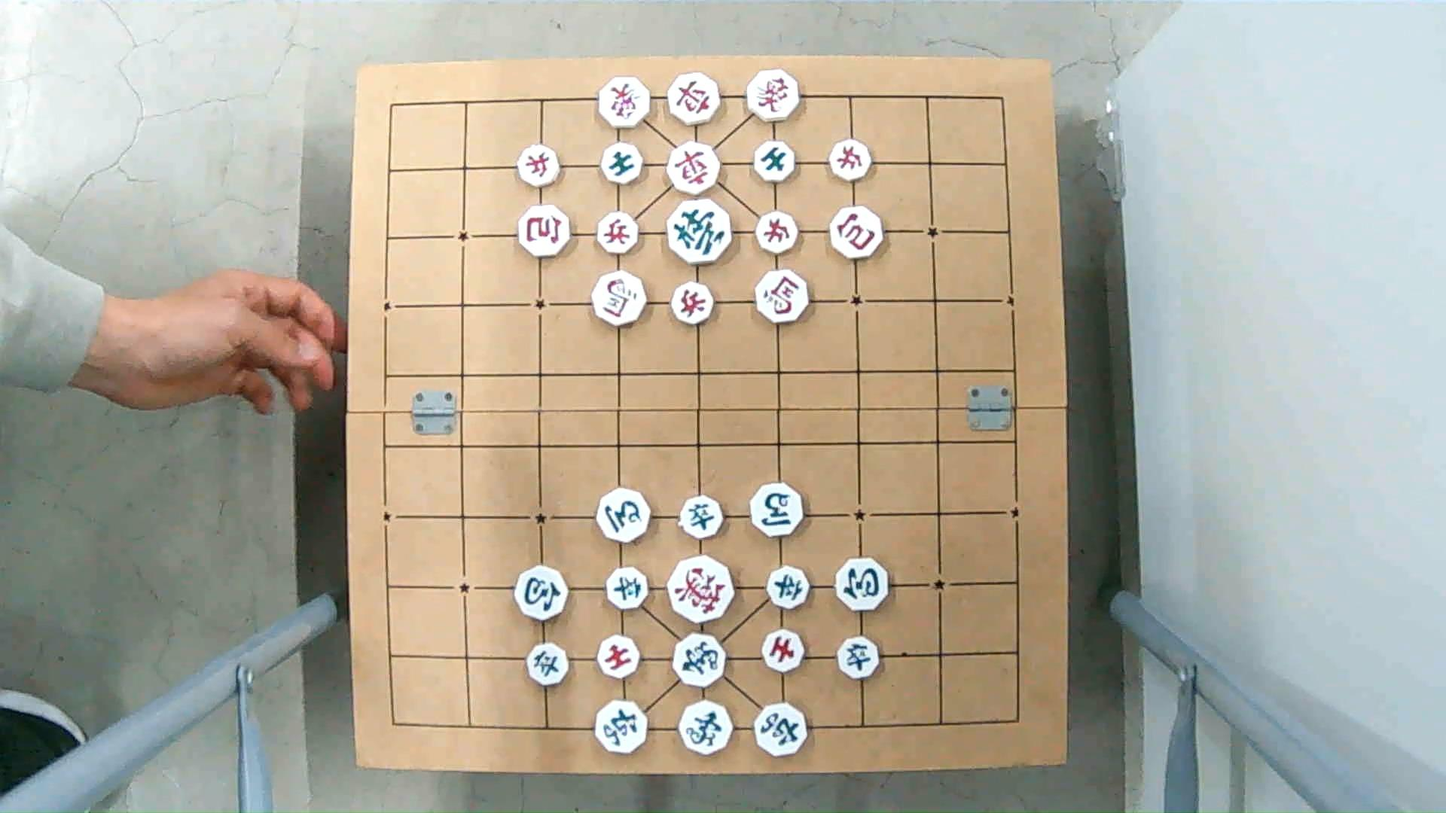cha_green: (754, 704, 808, 758), (593, 703, 651, 752)
cha_red: (667, 75, 724, 123), (666, 146, 723, 194)
jol_green: (764, 565, 809, 610), (676, 498, 725, 537), (605, 568, 652, 608), (523, 644, 572, 682), (836, 641, 883, 679)
jol_red: (751, 213, 800, 252), (516, 148, 564, 187), (668, 282, 717, 320), (595, 215, 643, 253), (825, 142, 873, 180)
ma_green: (746, 483, 805, 536), (594, 490, 653, 540)
ma_red: (756, 271, 816, 321), (590, 273, 649, 323)
po_green: (513, 565, 570, 619), (833, 562, 892, 610)
po_red: (825, 208, 883, 257), (514, 207, 572, 256)
sa_green: (752, 142, 798, 181), (598, 144, 645, 181)
sa_red: (594, 638, 645, 676), (760, 631, 809, 670)
sang_green: (667, 633, 728, 684), (676, 704, 733, 754)
sang_red: (741, 72, 804, 118), (595, 78, 654, 125)
wang_green: (663, 201, 733, 260)
wang_red: (666, 562, 737, 620)
